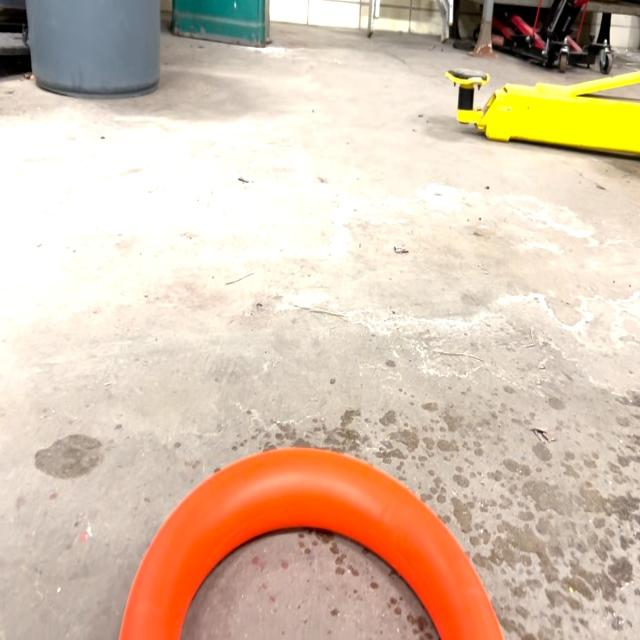note: (114, 446, 508, 640)
